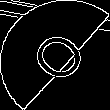O_SE: (19, 22, 91, 88)
